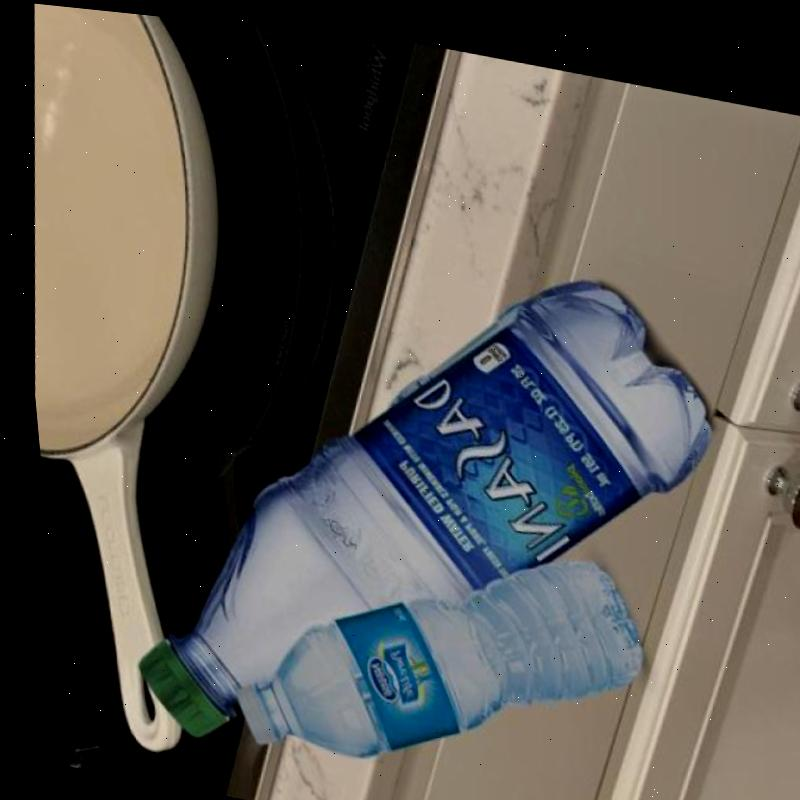botella: (91, 192, 743, 800), (199, 486, 660, 800)
